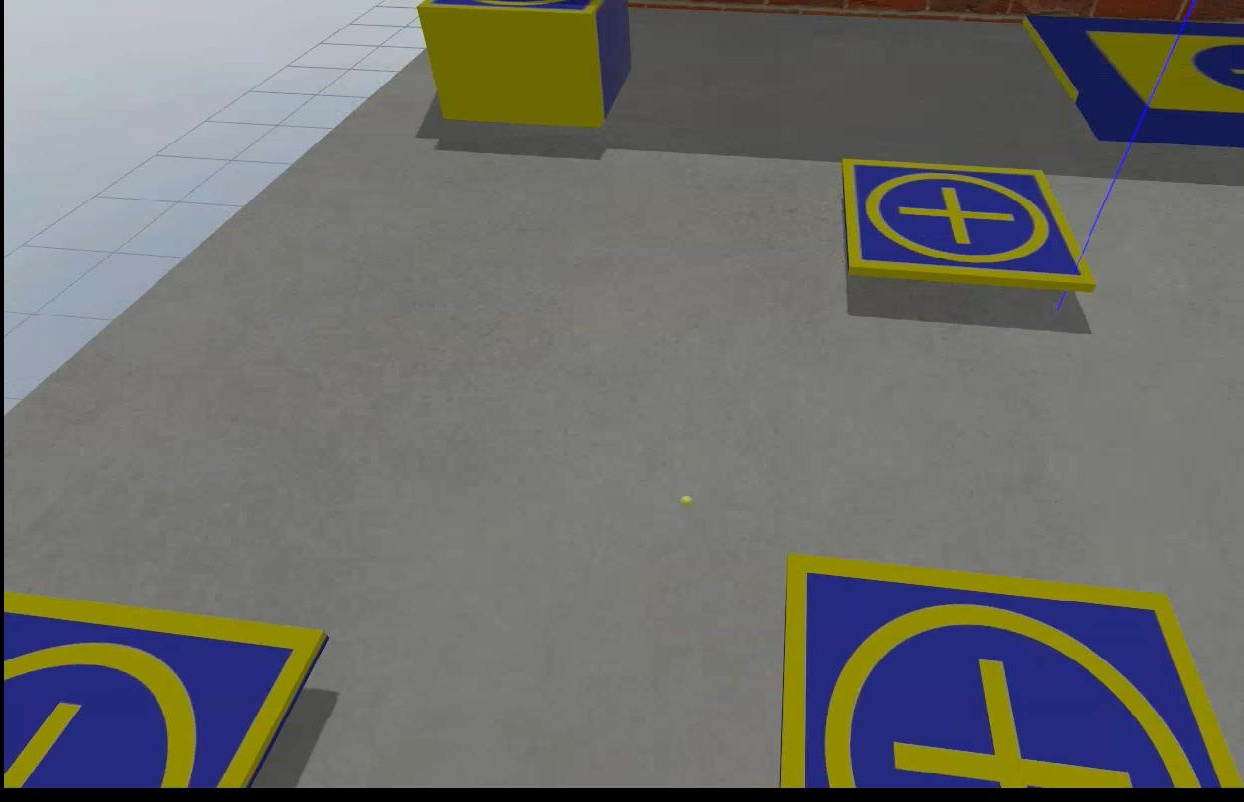large_base: (1017, 12, 1242, 149)
small_base: (776, 549, 1242, 787), (0, 588, 326, 792), (838, 163, 1092, 292), (413, 1, 612, 19)
